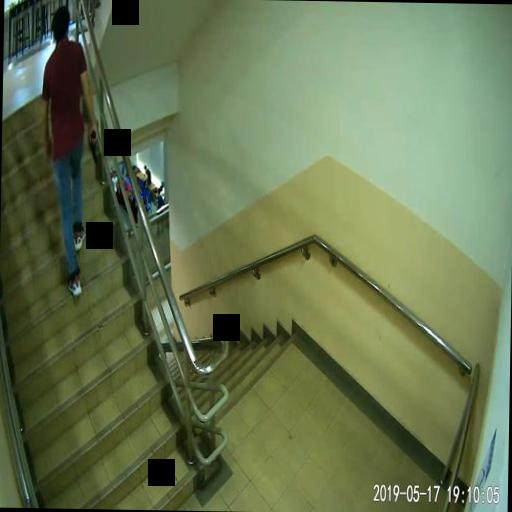Handgun: (86, 130, 96, 162)
